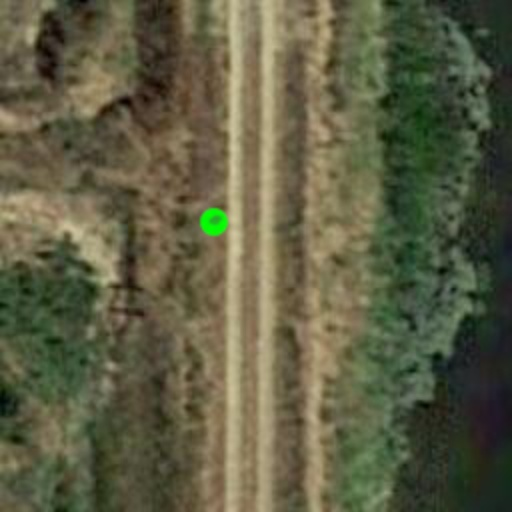circle: (194, 202, 234, 242)
